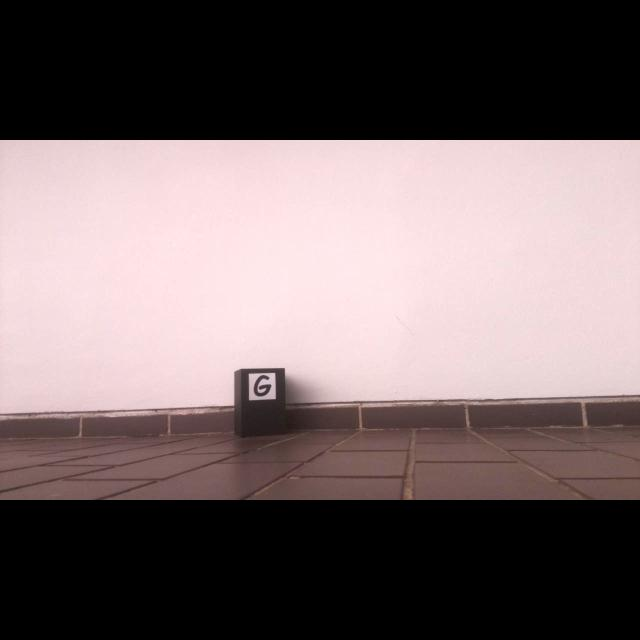G: (254, 376, 271, 396)
